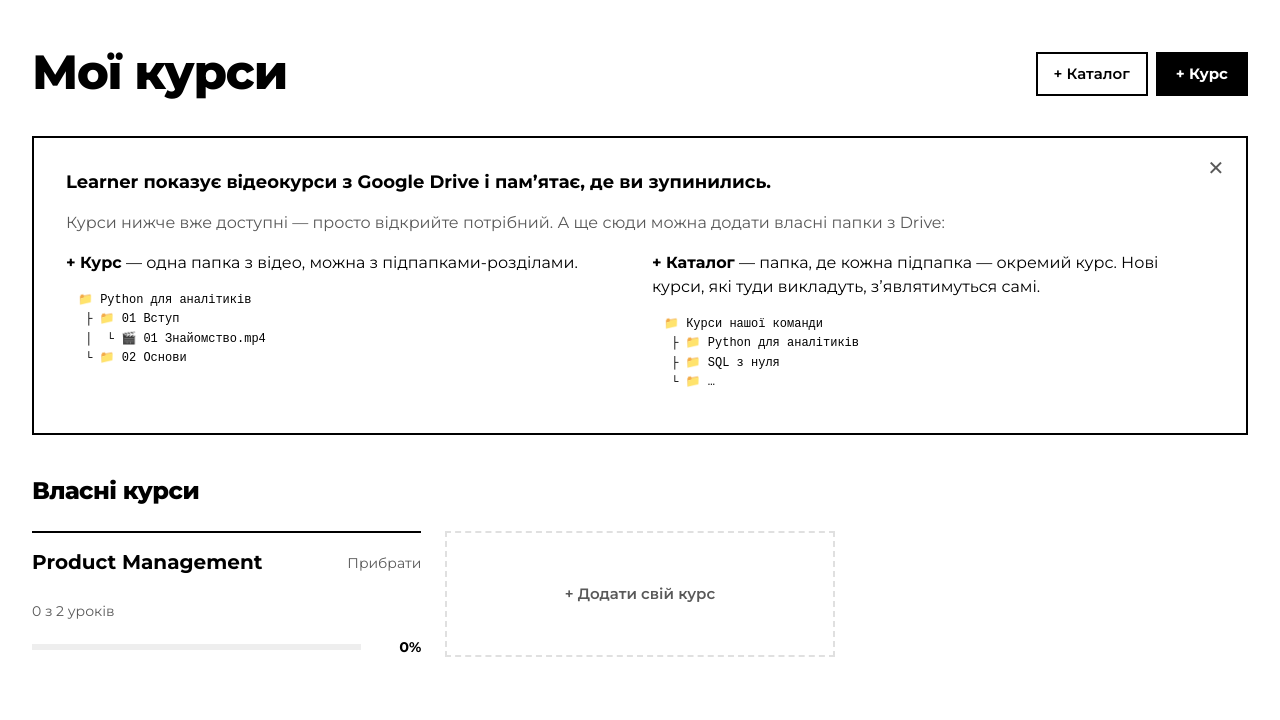
Scenario: LibraryPage › «+ Курс» відкриває діалог, додає курс і закриває діалог
The image size is (1280, 720).
Click the button "+ Курс": x=1202, y=74 [1156, 52, 1248, 96]
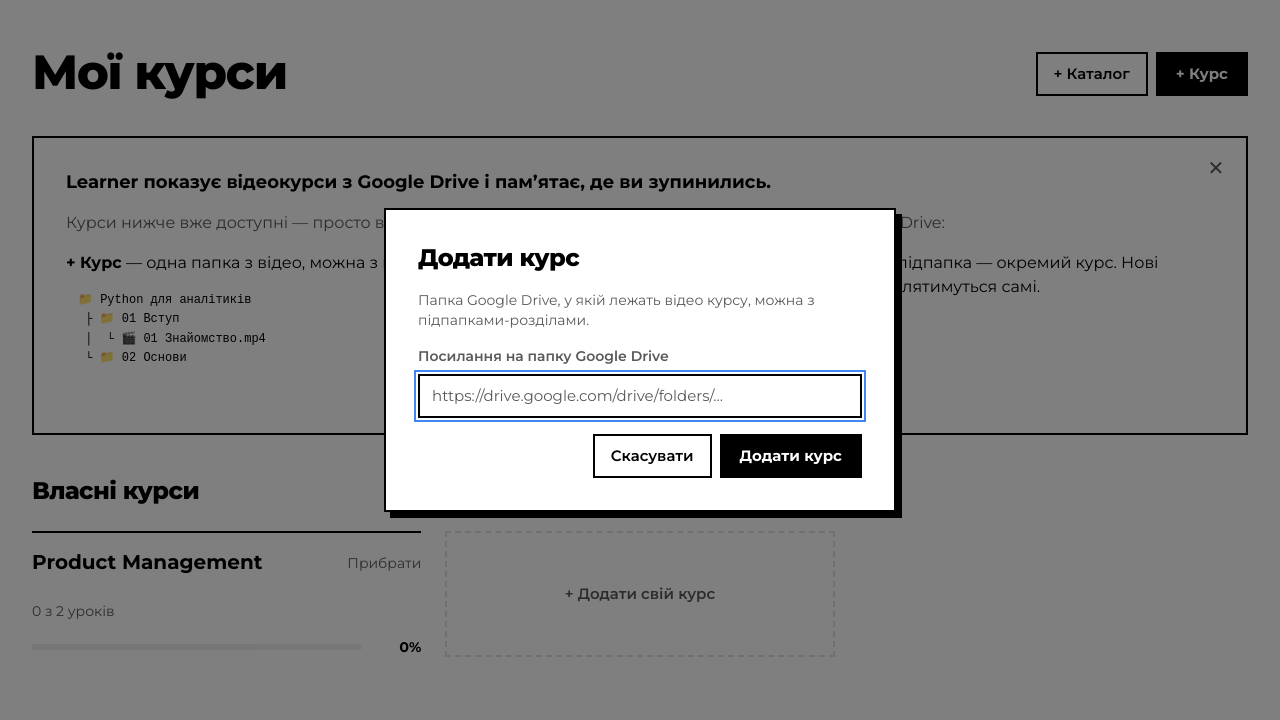
In the field labelled "Посилання на папку Google Drive": x=640, y=396 [418, 374, 862, 418], type "abcdefghijklmnopqrstuvwxyz"
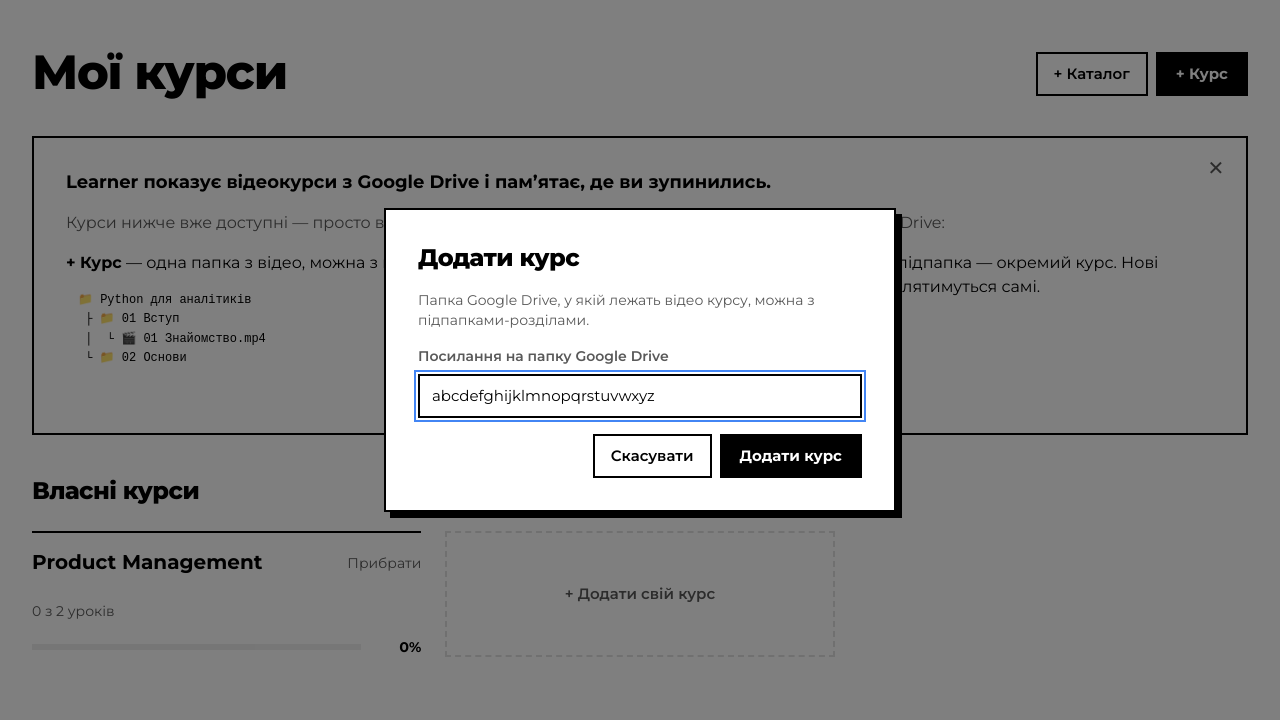
Click the button "Додати курс": x=791, y=456 [720, 434, 862, 478]
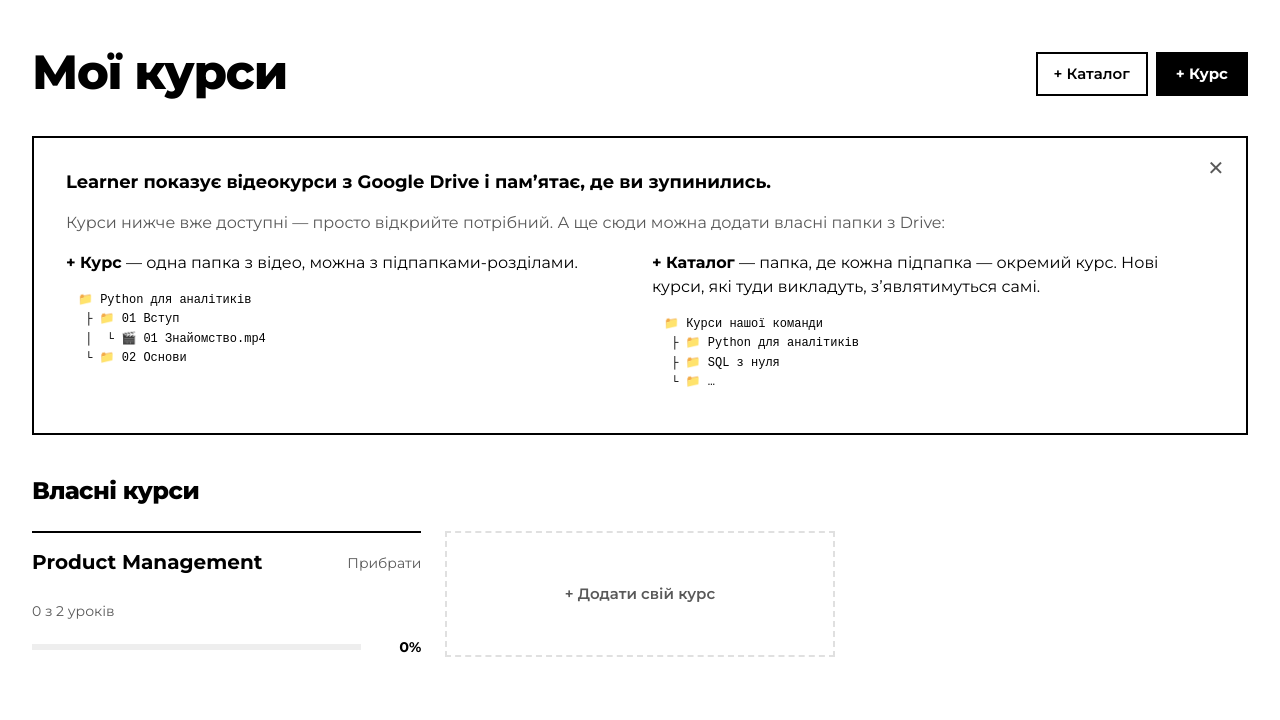
expect the dialog is gone: met
